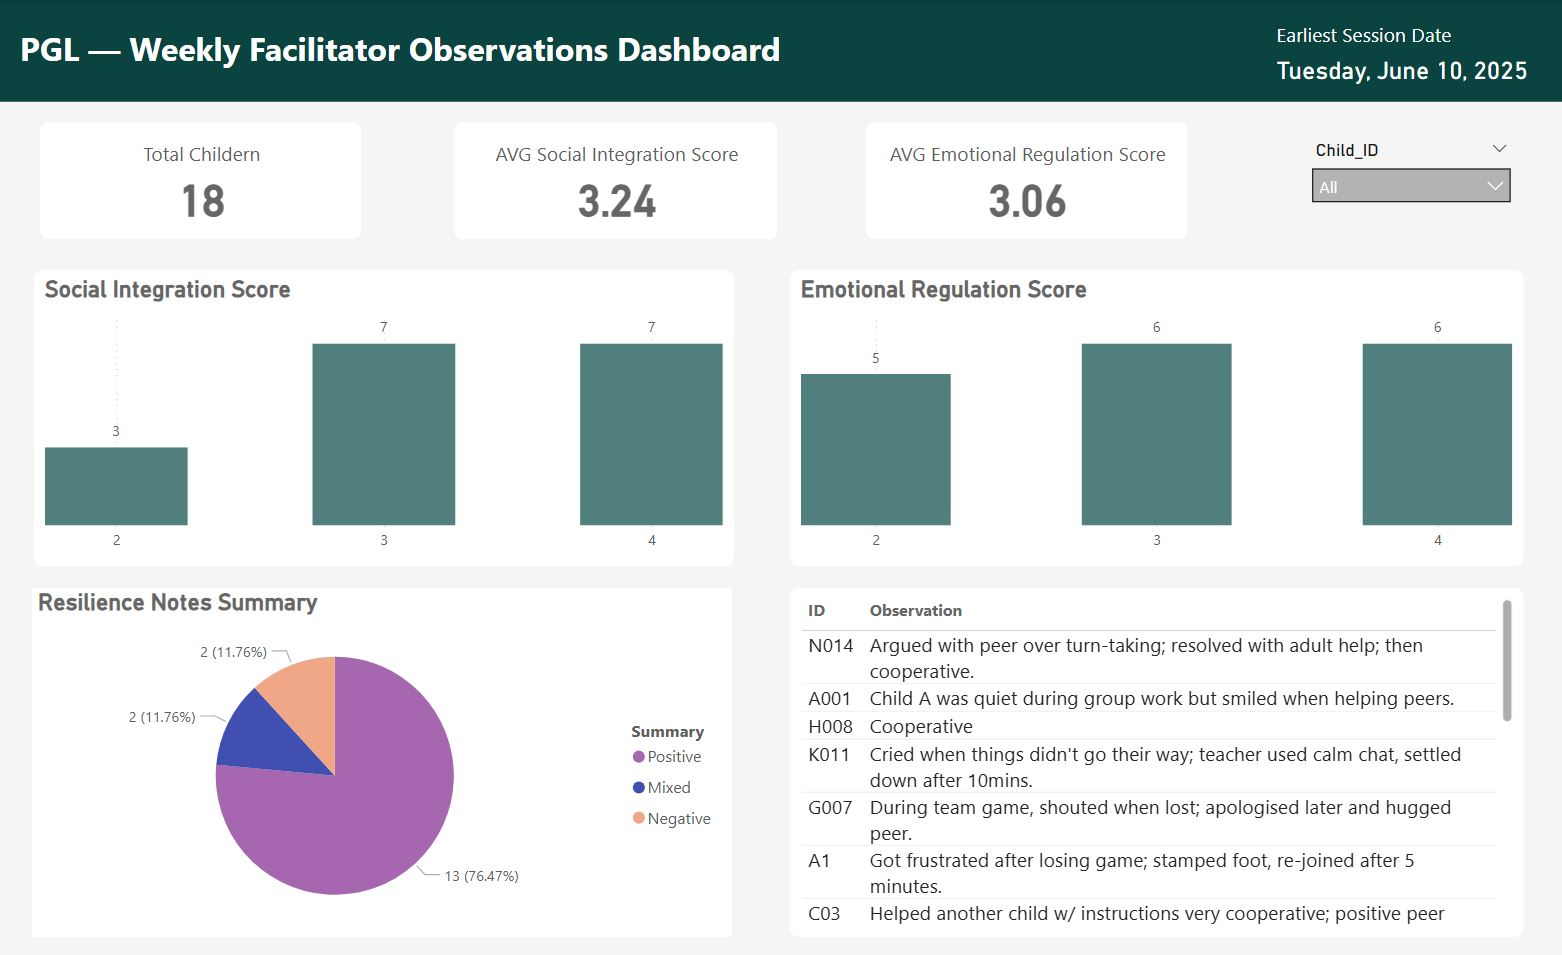

This screenshot's page, from the dashboard's own definition file:
{"tool":"powerbi","page":{"name":"Child Growth Dossier: Session Insights","canvas":[1300,800],"ordinal":0},"visuals":[{"type":"columnChart","title":"Social Integration Score","fields":{"Category":["cleaned_observations_enhanced.Social_Integration_Score"],"Y":["CountNonNull(cleaned_observations_enhanced.Child_ID)"]},"box":[29.6,224.5,579.5,245.4],"z":0},{"type":"columnChart","title":"Emotional Regulation Score","fields":{"Y":["CountNonNull(cleaned_observations_enhanced.Child_ID)"],"Category":["cleaned_observations_enhanced.Emotional_Regulation_Score"]},"box":[656.1,224.5,607.4,245.4],"z":1000},{"type":"WordCloud1447959067750","title":"Resilience Notes Summary","fields":{"Category":["cleaned_observations_enhanced.Resilience_Notes_Summary"]},"box":[27.8,489,579.5,288.9],"z":2000},{"type":"shape","box":[0,0,1280,85.7],"z":3000},{"type":"textbox","box":[13.7,18.8,738.5,54.8],"z":4000},{"type":"slicer","fields":{"Values":["cleaned_observations_enhanced.Child_ID"]},"box":[1079,113.1,184.5,78.3],"z":5000},{"type":"cardVisual","fields":{"Data":["CountNonNull(cleaned_observations_enhanced.Child_ID)"]},"box":[29.6,97.5,276.7,107.9],"z":6000},{"type":"cardVisual","fields":{"Data":["Avg(cleaned_observations_enhanced.Emotional_Regulation_Score)"]},"box":[713.5,97.5,276.7,107.9],"z":7000},{"type":"cardVisual","fields":{"Data":["Avg(cleaned_observations_enhanced.Social_Integration_Score)"]},"box":[372.4,97.5,278.4,107.9],"z":8000},{"type":"tableEx","fields":{"Values":["cleaned_observations_enhanced.Child_ID","cleaned_observations_enhanced.Observation_Text"]},"box":[656.1,489,607.4,288.9],"z":9000},{"type":"cardVisual","fields":{"Data":["Min(cleaned_observations_enhanced.Session_Date)"]},"box":[1021.6,0,259.3,85.3],"z":9001}]}

Visuals, with their boxes in screenshot pixels (x1, y1, x2, y2), scaled from the page's 1300x800 canvas onto the 1562x955 screenshot:
"Social Integration Score" columnChart: bbox=(36, 268, 732, 561)
"Emotional Regulation Score" columnChart: bbox=(788, 268, 1518, 561)
"Resilience Notes Summary" WordCloud1447959067750: bbox=(33, 584, 730, 929)
shape: bbox=(0, 0, 1538, 102)
textbox: bbox=(16, 22, 904, 88)
slicer - cleaned_observations_enhanced.Child_ID: bbox=(1296, 135, 1518, 228)
cardVisual - CountNonNull(cleaned_observations_enhanced.Child_ID): bbox=(36, 116, 368, 245)
cardVisual - Avg(cleaned_observations_enhanced.Emotional_Regulation_Score): bbox=(857, 116, 1190, 245)
cardVisual - Avg(cleaned_observations_enhanced.Social_Integration_Score): bbox=(447, 116, 782, 245)
tableEx - cleaned_observations_enhanced.Child_ID x cleaned_observations_enhanced.Observation_Text: bbox=(788, 584, 1518, 929)
cardVisual - Min(cleaned_observations_enhanced.Session_Date): bbox=(1227, 0, 1539, 102)
